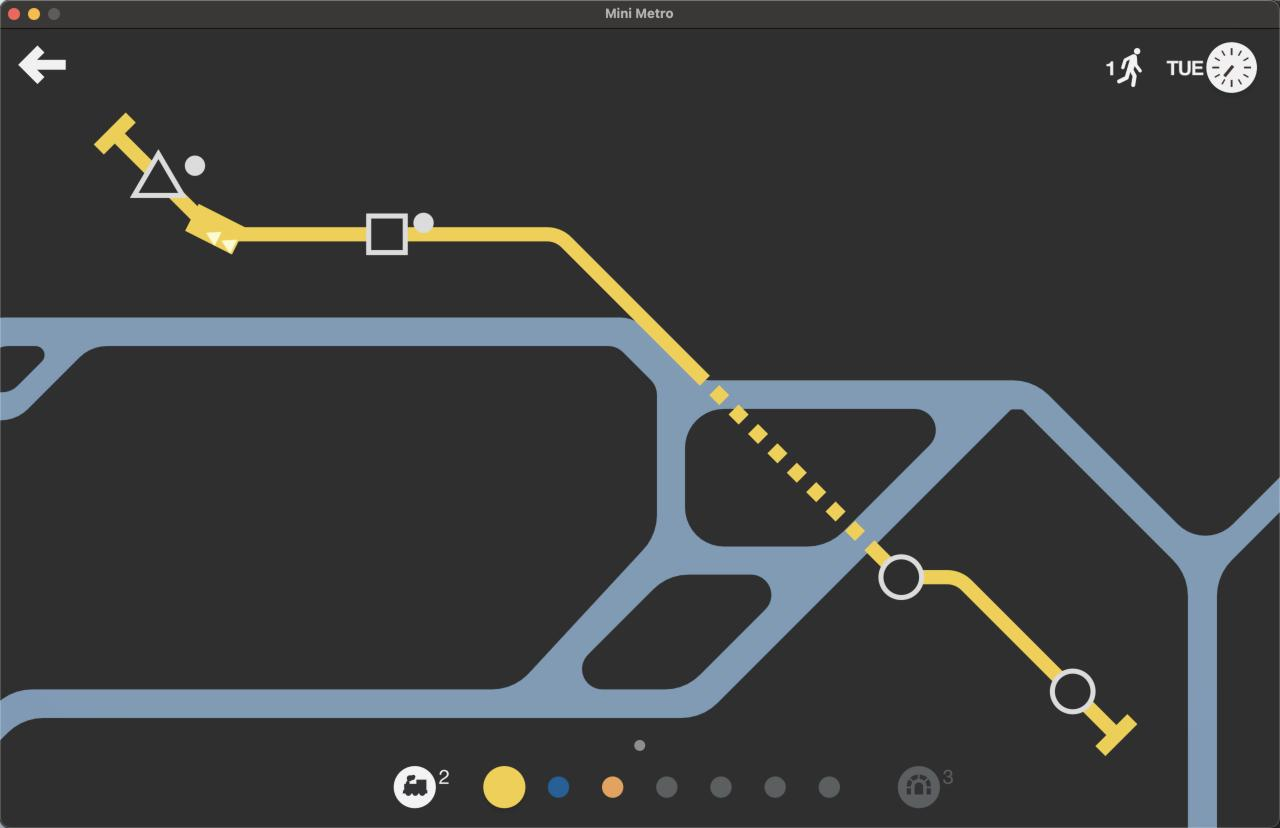CIRCLE: (1049, 667, 1098, 715), (877, 552, 925, 600)
SQUARE: (362, 211, 411, 260)
TRIANGLE: (129, 149, 188, 201)
